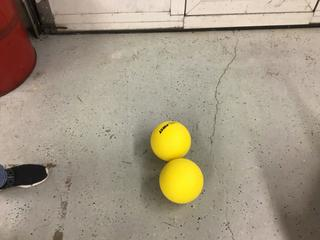power_cell: (153, 159, 206, 203), (149, 118, 192, 162)
